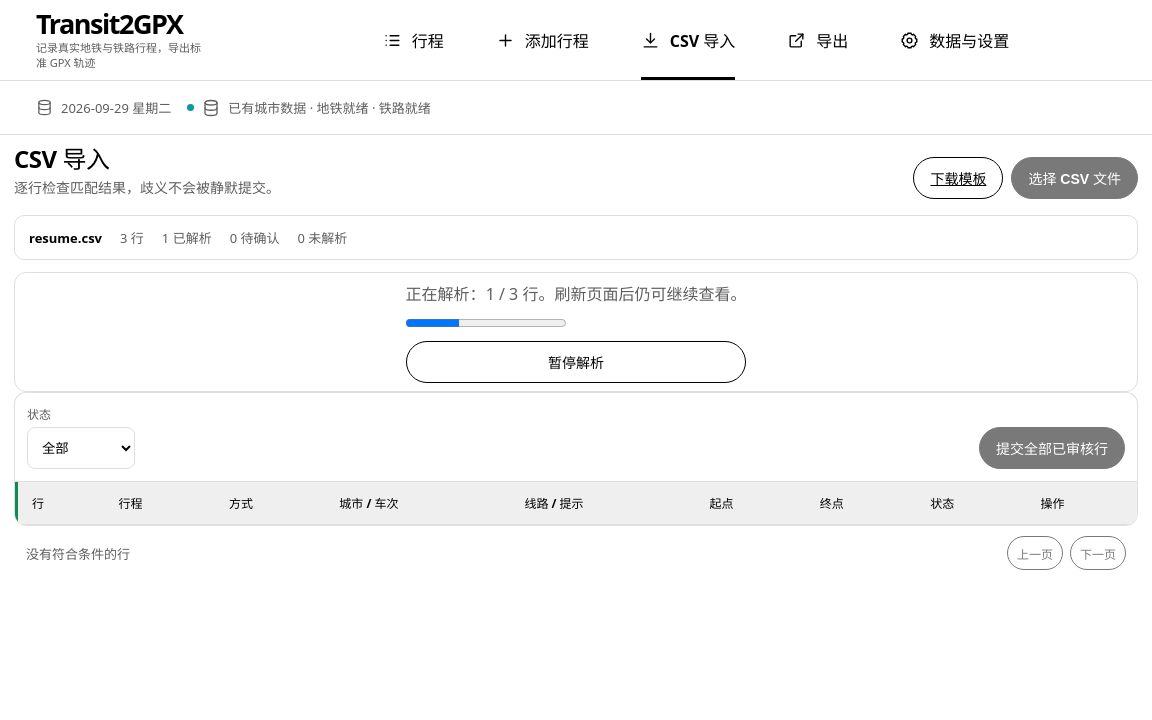
Test: Transit2GPX app shell › pauses and resumes a CSV batch opened from its persisted URL
Check: the button "提交全部已审核行" is disabled, box [979, 427, 1125, 469]
Click the button "暂停解析" at (576, 362), box [406, 341, 746, 383]
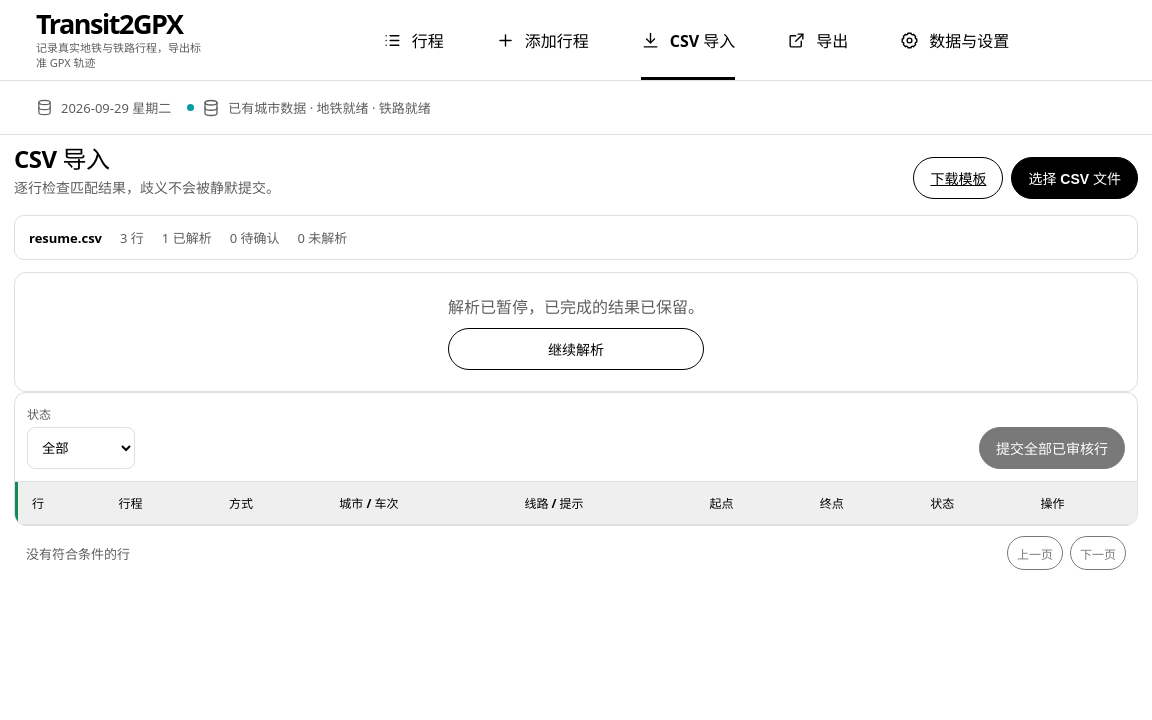
Click the button "继续解析" at (576, 349), box [448, 328, 704, 370]
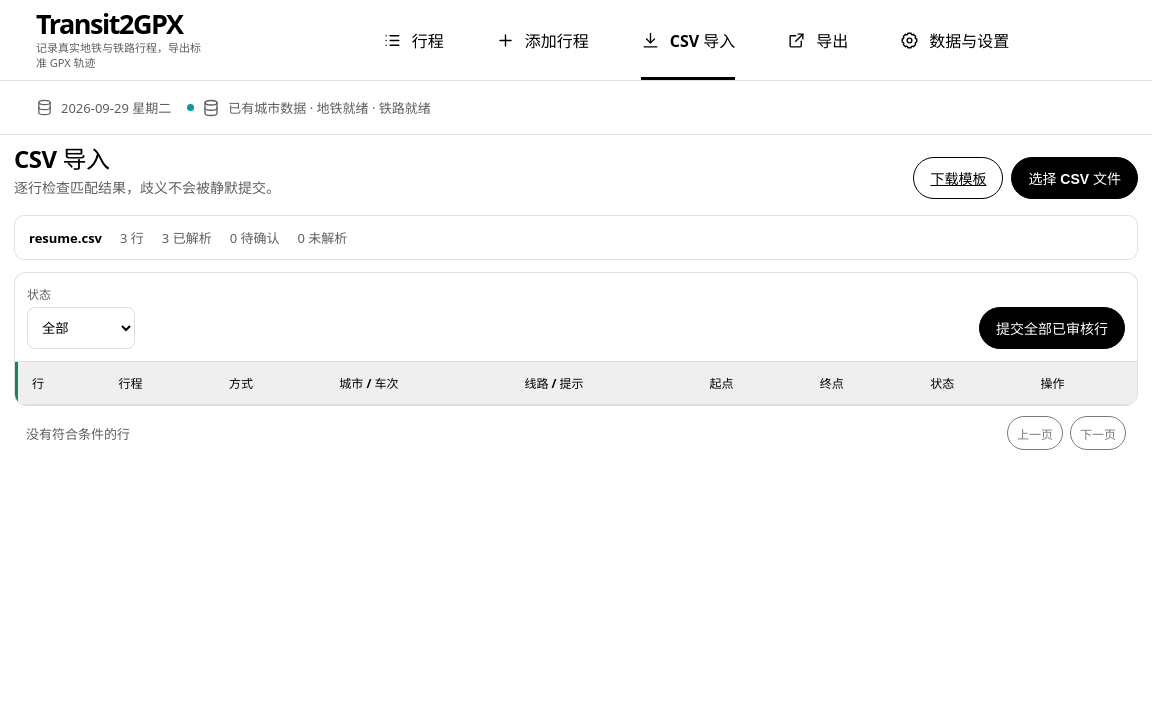
Check: the button "提交全部已审核行" is enabled, box [979, 307, 1125, 349]
Check: the text "3 已解析" is shown, box [162, 228, 212, 247]
